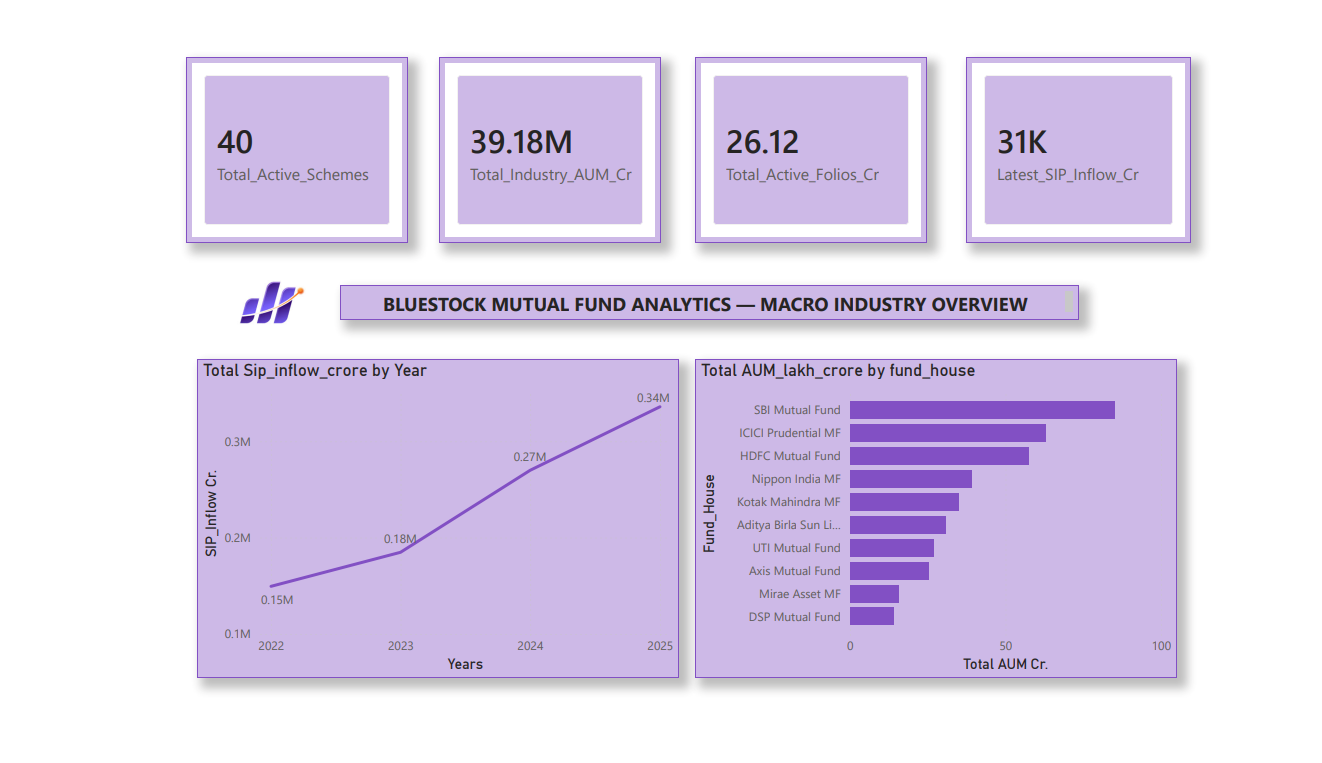

What the dashboard file says about the page in this screenshot:
{"tool":"powerbi","page":{"name":"Page 1","canvas":[1280,720],"ordinal":0},"visuals":[{"type":"cardVisual","fields":{"Data":["Dim_Fund.Total_Active_Schemes"]},"box":[163.1,33.6,222.2,186.5],"z":0},{"type":"cardVisual","fields":{"Data":["Fact_aum.Total_Industry_AUM_Cr"]},"box":[415.8,33.6,222.2,186.5],"z":1000},{"type":"cardVisual","fields":{"Data":["Fact_Folio_Count.Total_Active_Folios_Cr"]},"box":[671.6,33.6,232.4,186.5],"z":2000},{"type":"cardVisual","fields":{"Data":["Fact_Sip_Inflows.Latest_SIP_Inflow_Cr"]},"box":[942.7,33.6,225.2,186.5],"z":3000},{"type":"lineChart","title":"Total Sip_inflow_crore by Year","fields":{"Category":["Fact_Sip_Inflows.month.Variation.Date Hierarchy.Year","Fact_Sip_Inflows.month.Variation.Date Hierarchy.Quarter","Fact_Sip_Inflows.month.Variation.Date Hierarchy.Month","Fact_Sip_Inflows.month.Variation.Date Hierarchy.Day"],"Y":["Sum(Fact_Sip_Inflows.sip_inflow_crore)"]},"box":[174.3,336.3,482,319],"z":4000},{"type":"clusteredBarChart","title":"Total AUM_lakh_crore by fund_house","fields":{"Category":["Fact_aum.fund_house"],"Y":["Sum(Fact_aum.aum_lakh_crore)"]},"box":[671.6,336.3,482,319],"z":5000},{"type":"textbox","box":[316.9,261.9,738.9,34.6],"z":6000},{"type":"image","box":[163.1,240.5,169.2,77.5],"z":6001}]}

Visuals, with their boxes in screenshot pixels (x1, y1, x2, y2), scaled from the page's 1280x720 canvas onto the 1322x763 screenshot:
cardVisual - Dim_Fund.Total_Active_Schemes: {"left": 168, "top": 36, "right": 398, "bottom": 233}
cardVisual - Fact_aum.Total_Industry_AUM_Cr: {"left": 429, "top": 36, "right": 659, "bottom": 233}
cardVisual - Fact_Folio_Count.Total_Active_Folios_Cr: {"left": 694, "top": 36, "right": 934, "bottom": 233}
cardVisual - Fact_Sip_Inflows.Latest_SIP_Inflow_Cr: {"left": 974, "top": 36, "right": 1206, "bottom": 233}
"Total Sip_inflow_crore by Year" lineChart: {"left": 180, "top": 356, "right": 678, "bottom": 694}
"Total AUM_lakh_crore by fund_house" clusteredBarChart: {"left": 694, "top": 356, "right": 1191, "bottom": 694}
textbox: {"left": 327, "top": 278, "right": 1090, "bottom": 314}
image: {"left": 168, "top": 255, "right": 343, "bottom": 337}
